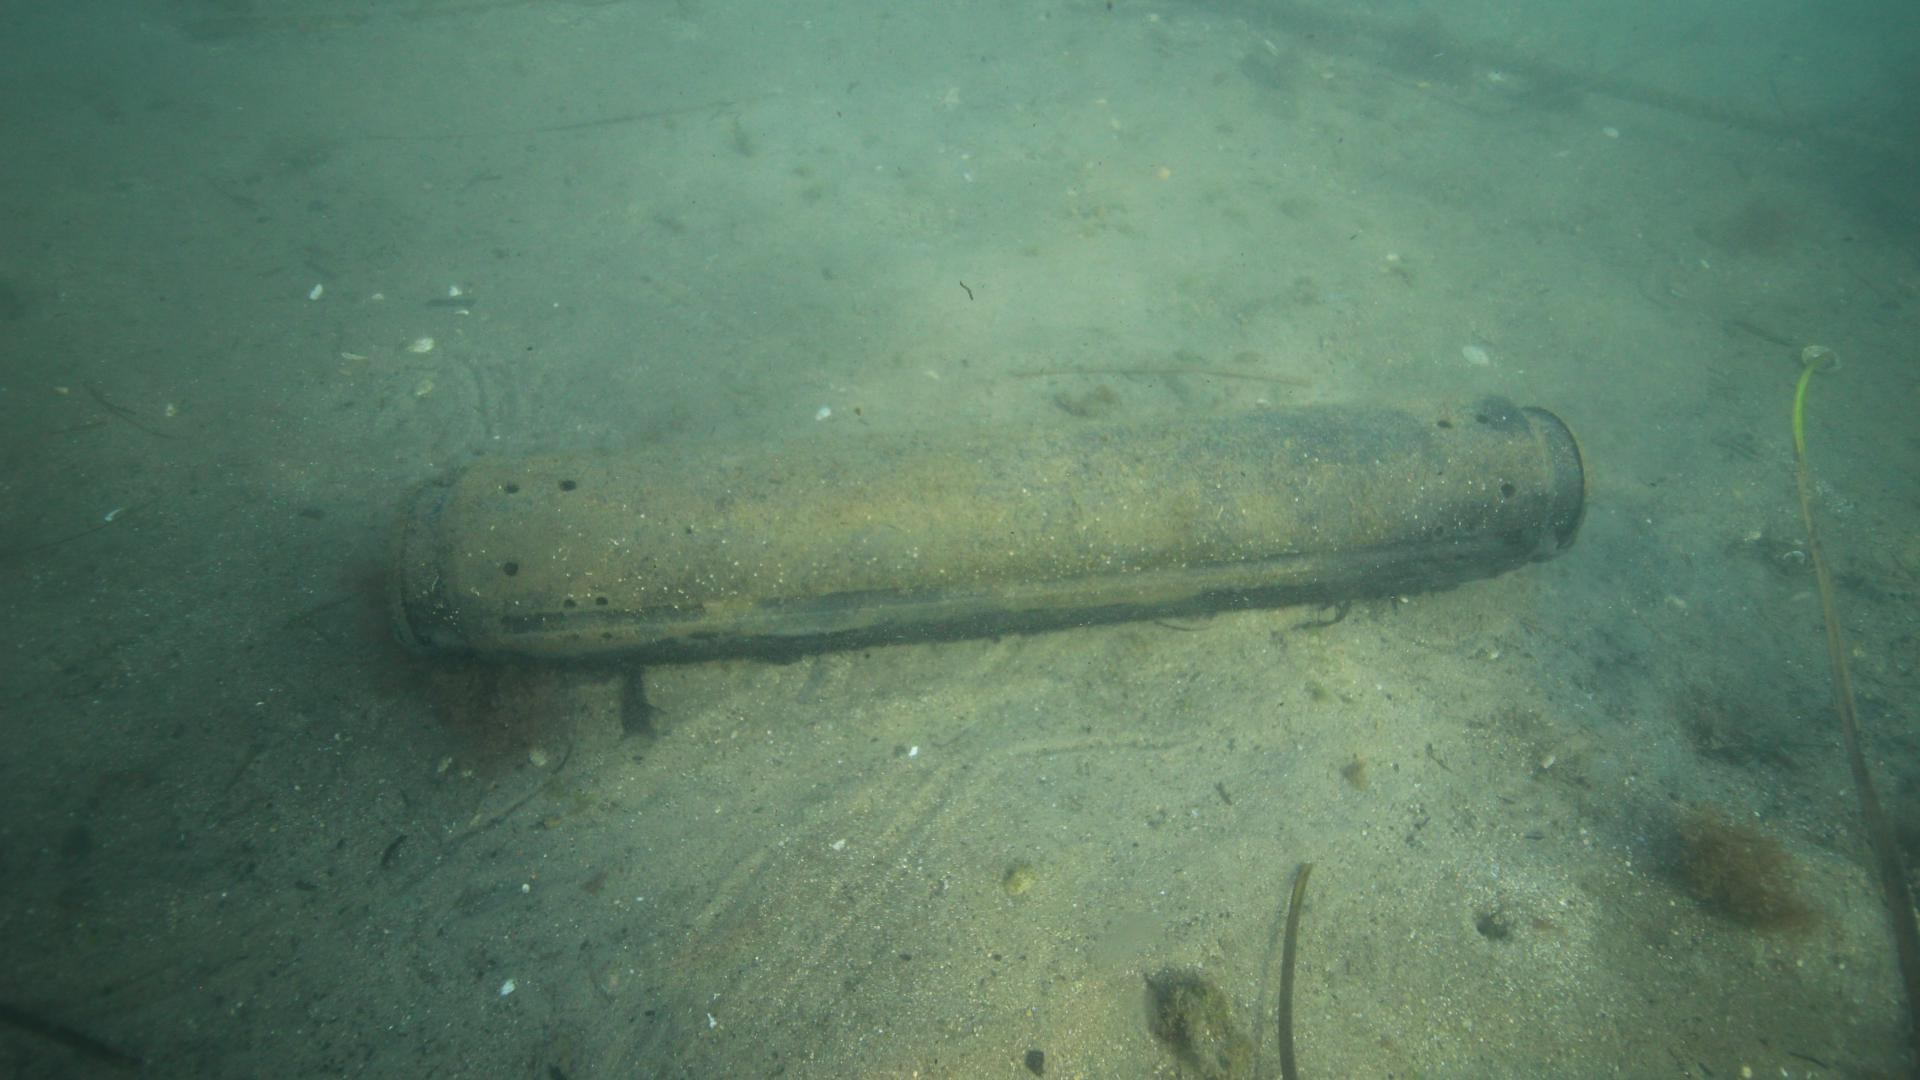eel fish trap: (378, 386, 1592, 679)
